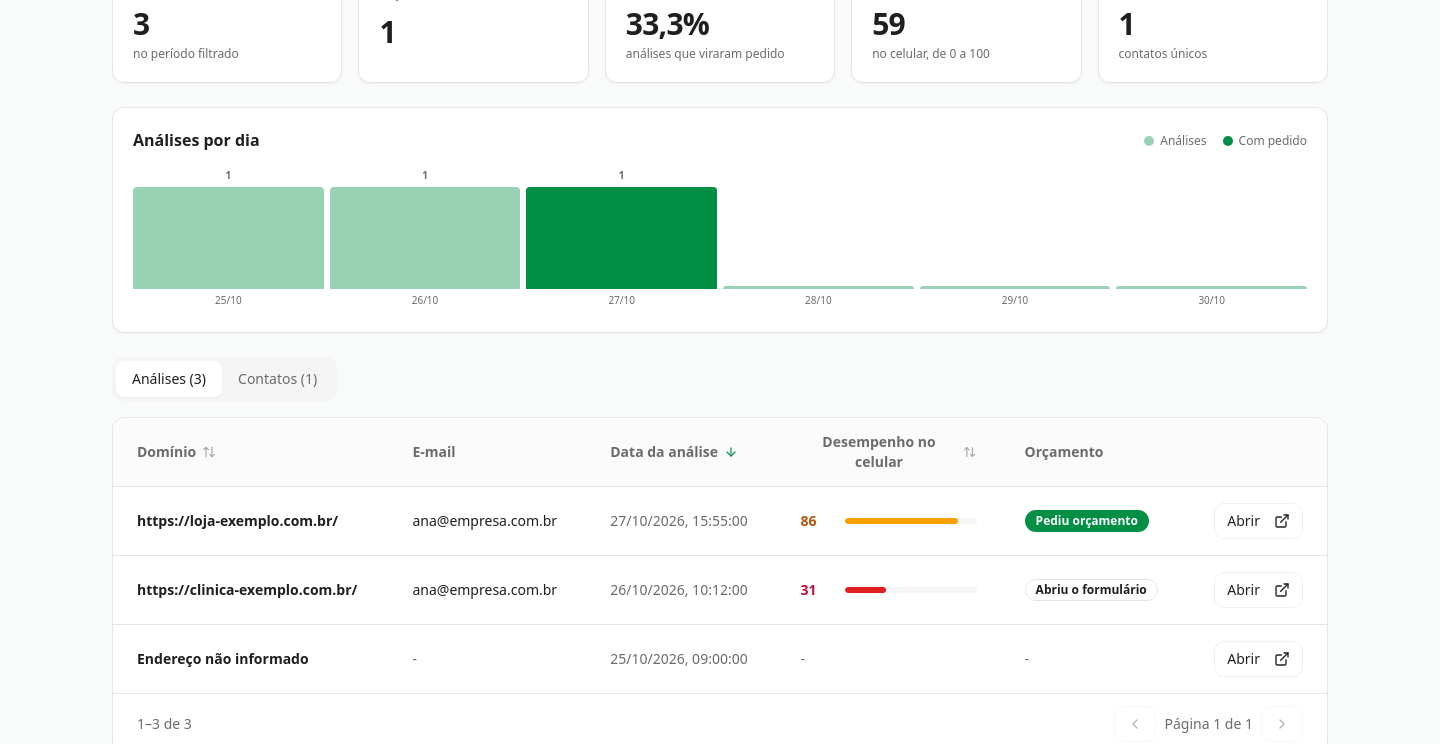
Test: Agency admin area › shows the e-mail of each analysis and groups the contacts with their analysis count
This screenshot has width=1440, height=744.
(page scrolled)
Expected: the text "https://loja-exemplo.com.br/" is shown, x1=113 y1=486 x2=388 y2=556
Expected: the text "ana@empresa.com.br" is shown 2 times, x1=388 y1=486 x2=586 y2=556; x1=388 y1=556 x2=586 y2=624
Press the mouse on the tab "Contatos (1)" at [278, 379], box x1=222 y1=361 x2=333 y2=397
(page scrolled)
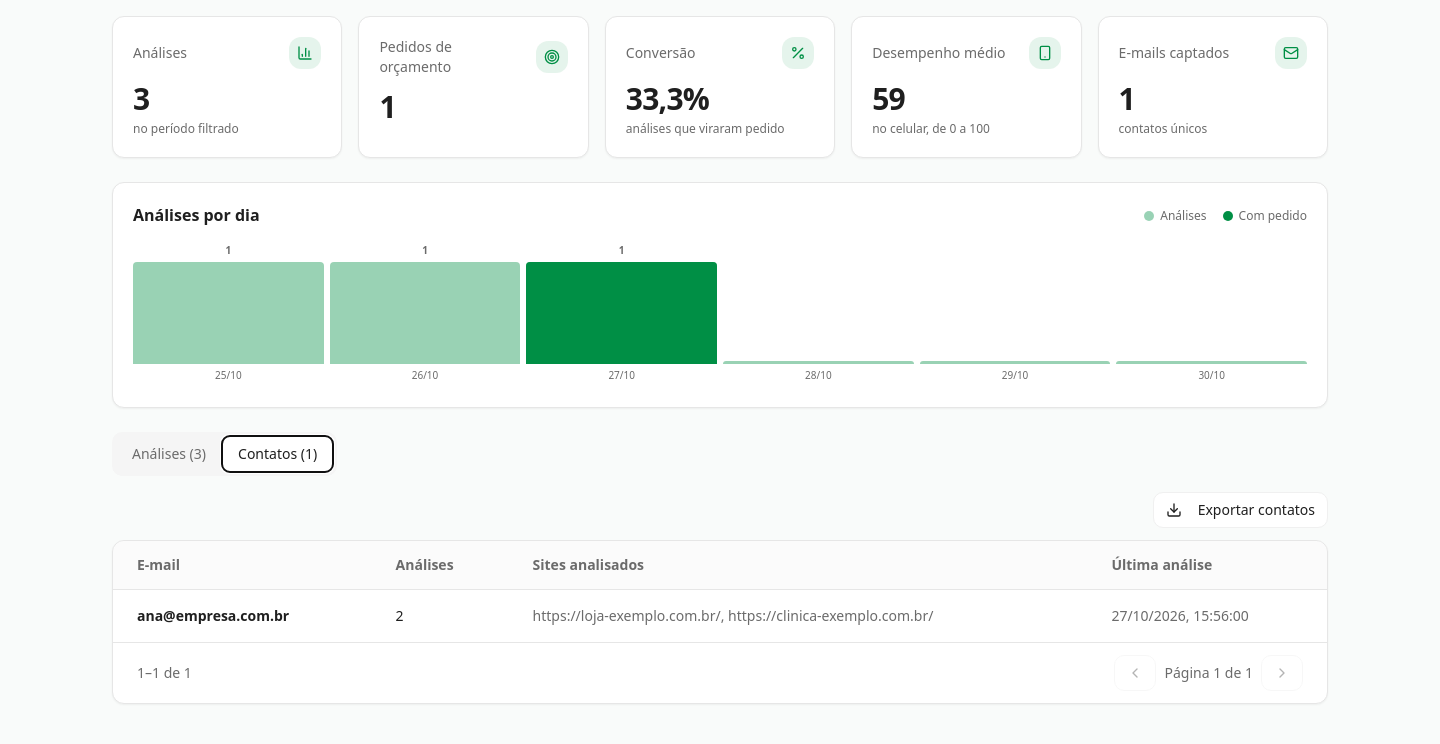
Expected: the text "2" is shown, x1=372 y1=590 x2=509 y2=642
Now the text "ana@empresa.com.br" shows "https://loja-exemplo.com.br/, https://clinica-exemplo.com.br/", box x1=533 y1=606 x2=933 y2=625
